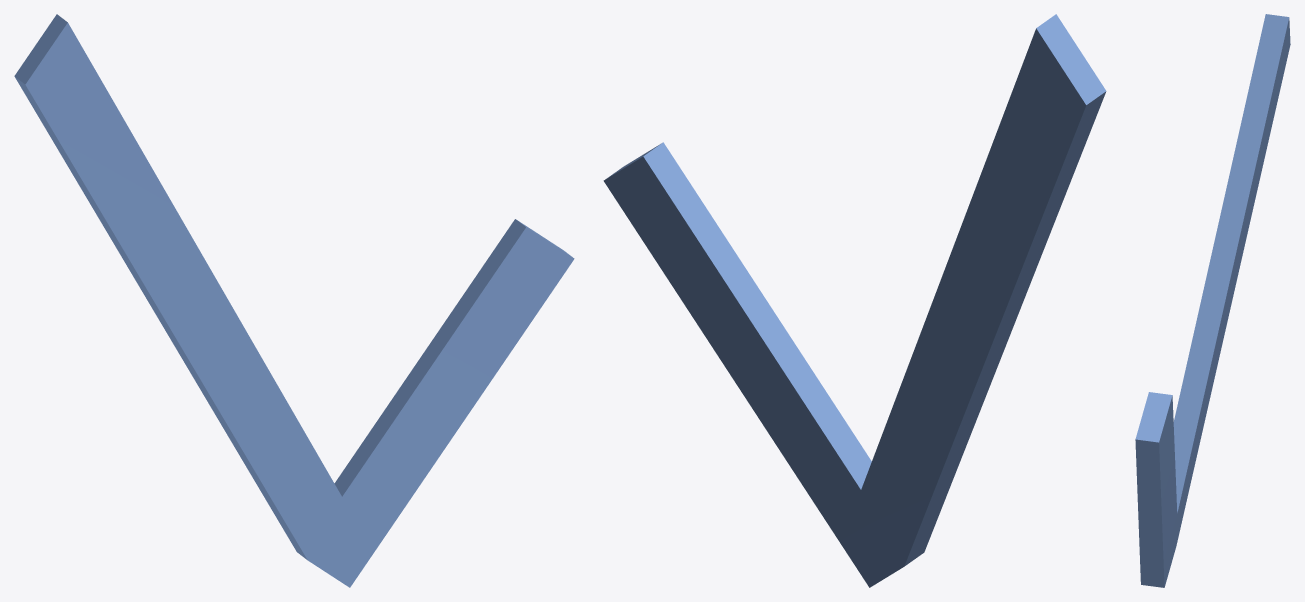
Rendered from New_Number_7.gltf.
The picture shows the model from 3 angles, left to right: view 1: azimuth 30°, elevation 25°; view 2: azimuth 150°, elevation 25°; view 3: azimuth 270°, elevation 25°; orthographic projection. The views are drawn at different scales.
Visible parts, largest first — view 1: Part 160; view 2: Part 160; view 3: Part 160.
Boxes of the visible parts, bbox=[...] form: Part 160: bbox=[14, 14, 574, 587]; Part 160: bbox=[603, 14, 1106, 587]; Part 160: bbox=[1135, 14, 1290, 587].
Size of the model in its own units: 0.00504 by 0.00573 by 0.00166.
